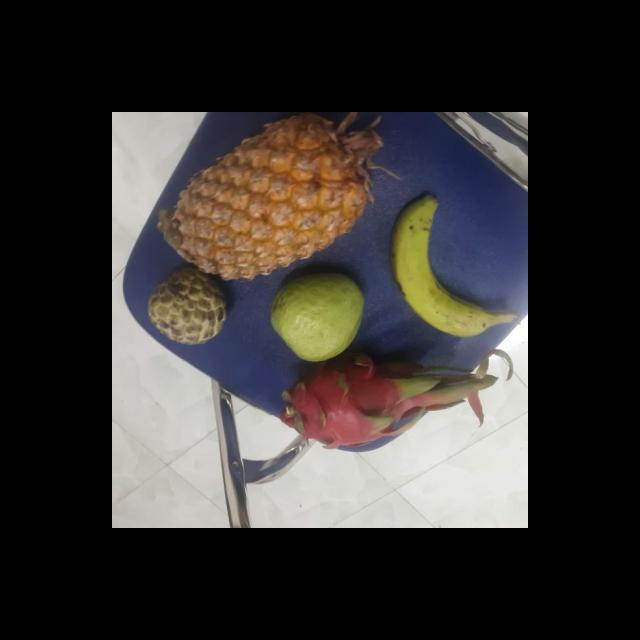Sakya fruit: (148, 267, 232, 344)
banana: (392, 196, 503, 336)
guava: (267, 271, 367, 363)
pineapple: (170, 119, 380, 275)
pitaya: (282, 353, 439, 455)
